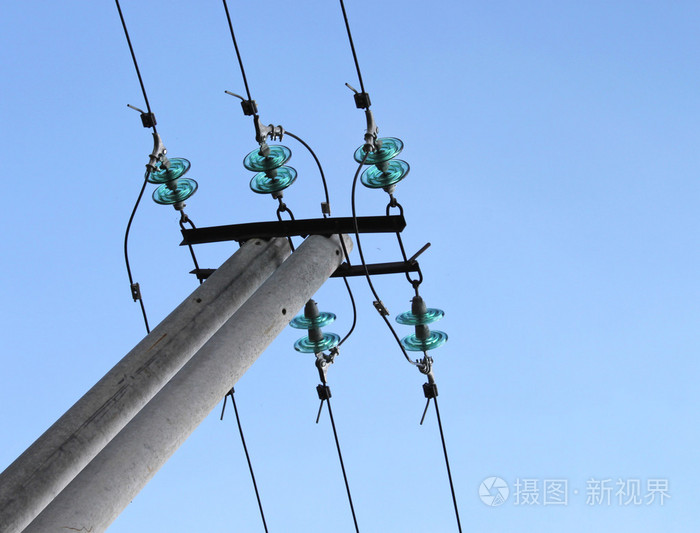insulator: (243, 145, 301, 196), (145, 154, 199, 206), (355, 135, 405, 191), (290, 311, 347, 354), (397, 306, 450, 352)
